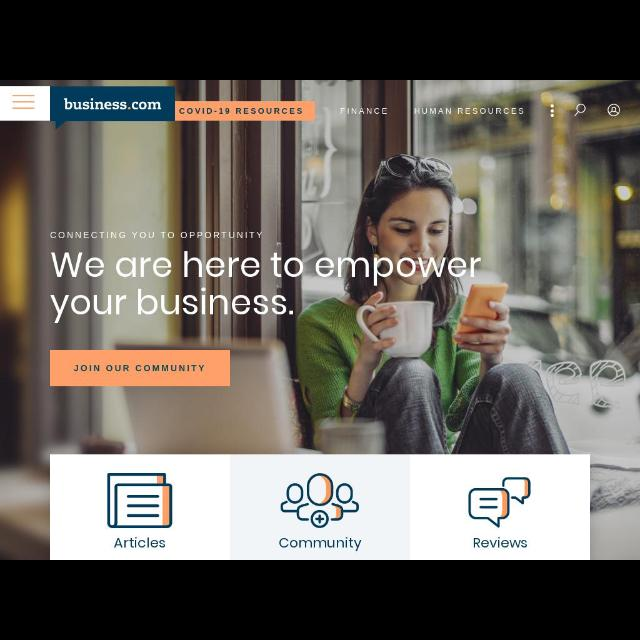backgroundimage: (1, 80, 640, 560)
icon: (0, 87, 50, 121), (574, 104, 586, 116), (608, 104, 620, 116), (550, 104, 554, 116)
image: (282, 474, 358, 528), (108, 474, 172, 528), (470, 477, 530, 528)
text: (51, 251, 481, 285), (50, 288, 294, 324), (50, 232, 262, 238), (64, 97, 160, 109), (280, 538, 362, 552), (74, 364, 204, 372), (180, 108, 302, 114), (414, 108, 524, 114), (474, 537, 526, 547), (115, 538, 165, 548), (339, 108, 387, 114)
textbutton: (49, 350, 230, 386)
